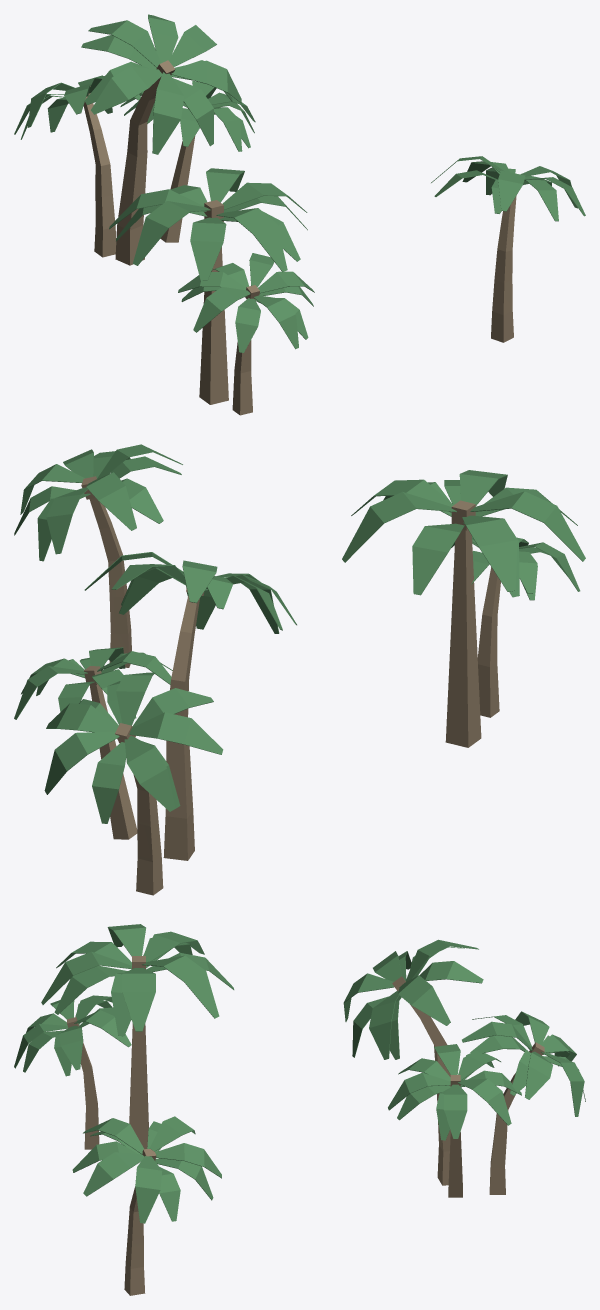
Rendered from BeachPalm.fbx.
The picture shows the model from 3 angles, top to bottom: view 1: azimuth 30°, elevation 25°; view 2: azimuth 150°, elevation 25°; view 3: azimuth 270°, elevation 25°; orthographic projection. The views are drawn at different scales.
Parts seen in each view (by area): view 1: BeachPalmTree; view 2: BeachPalmTree; view 3: BeachPalmTree.
Boxes of the visible parts, left/top/right/bottom form: BeachPalmTree: left=14, top=14, right=585, bottom=415; BeachPalmTree: left=14, top=444, right=585, bottom=895; BeachPalmTree: left=14, top=924, right=585, bottom=1295.
Size of the model in its own units: 1971 by 2207 by 1041.
